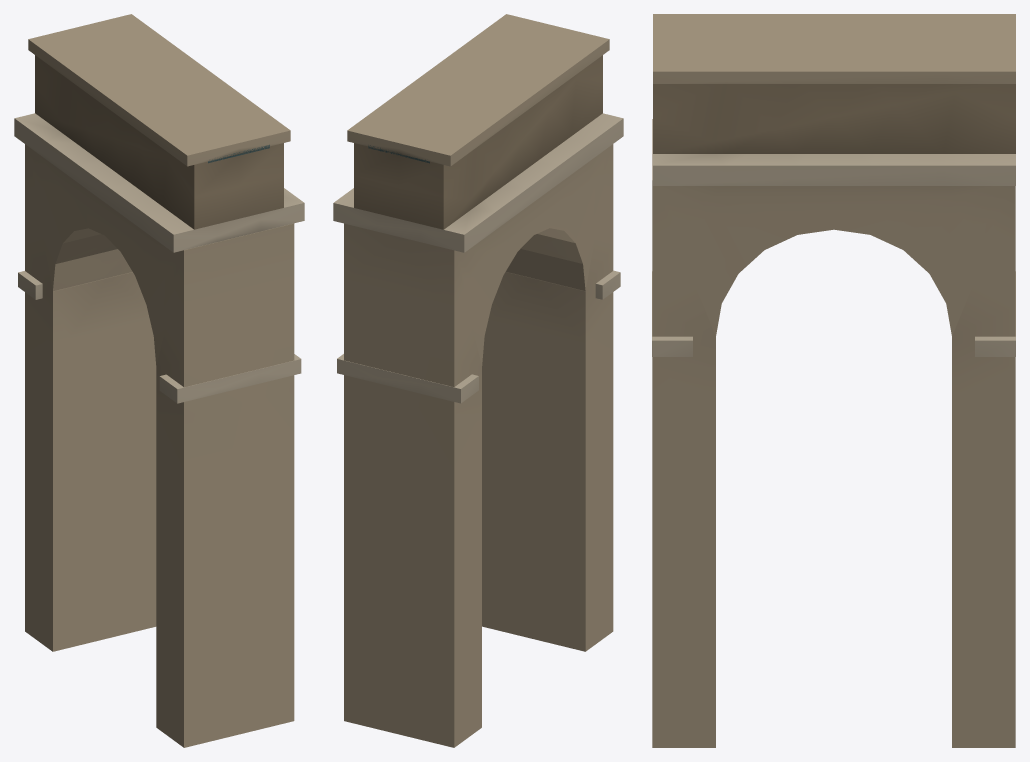
File: aqueduct-bay.glb
3 views of the same model, side by side, from view 1: azimuth 30°, elevation 25°; view 2: azimuth 150°, elevation 25°; view 3: azimuth 270°, elevation 25° (orthographic). The views are drawn at different scales.
Parts seen in each view (by area): view 1: base; view 2: base; view 3: base.
Boxes of the visible parts, box(x1,y1,x2,y2) form: base: box(14, 14, 304, 747); base: box(333, 14, 623, 747); base: box(652, 14, 1015, 747).
Size of the model in its own units: 3.8 by 16.4 by 8.02.
